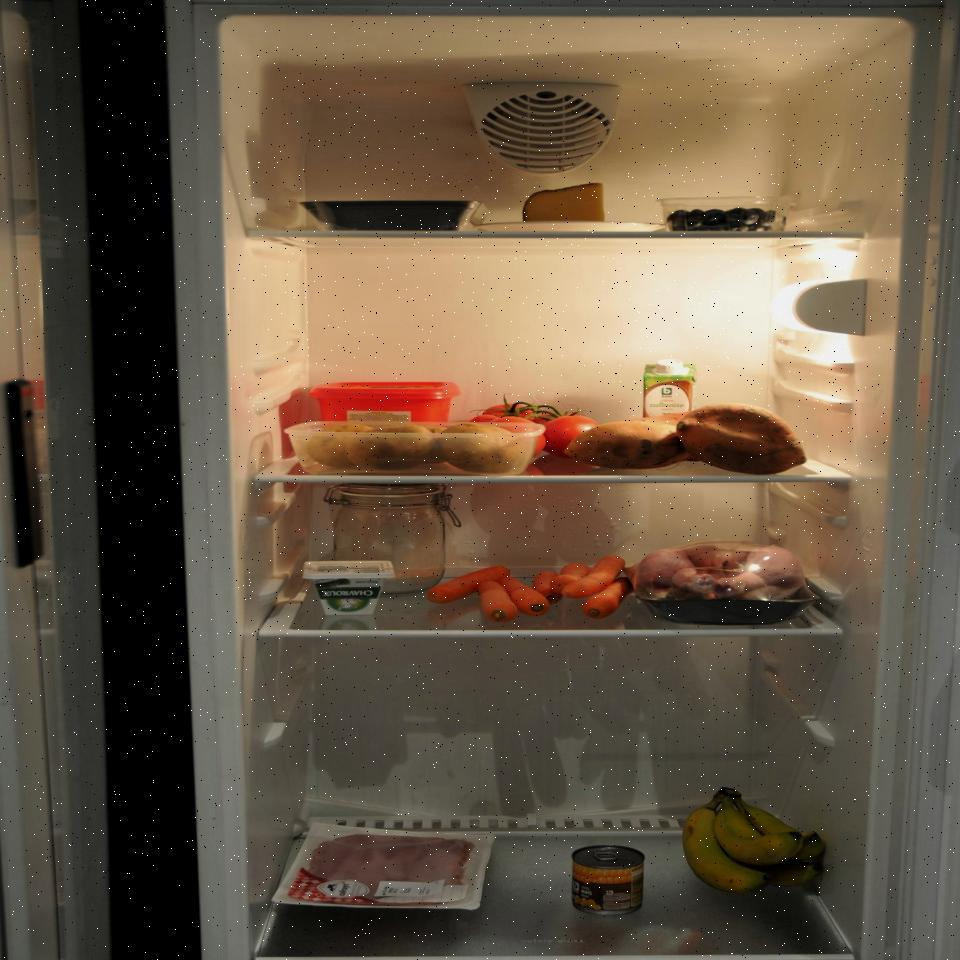Carne pollo: (627, 536, 824, 626)
Mantequilla: (310, 384, 459, 434)
Plátano: (673, 780, 836, 906)
Queso: (518, 180, 612, 228)
Tomate: (467, 396, 608, 460)
Zanahoria: (425, 551, 635, 623)
